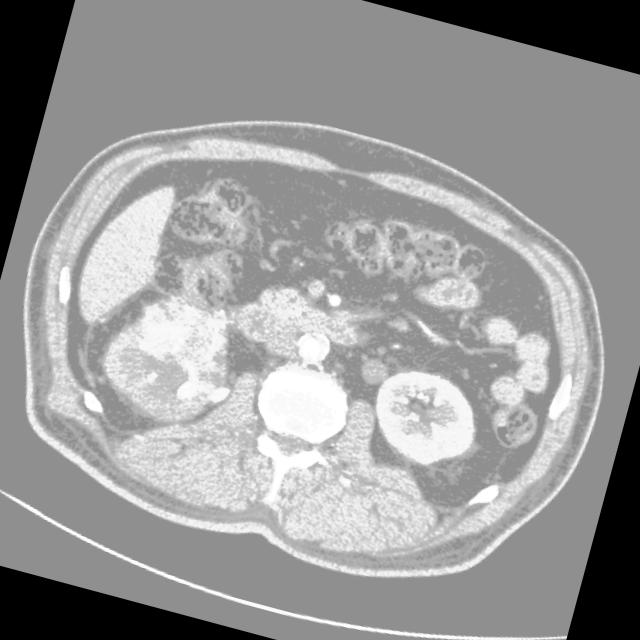TUMOR: (12, 219, 539, 524)
